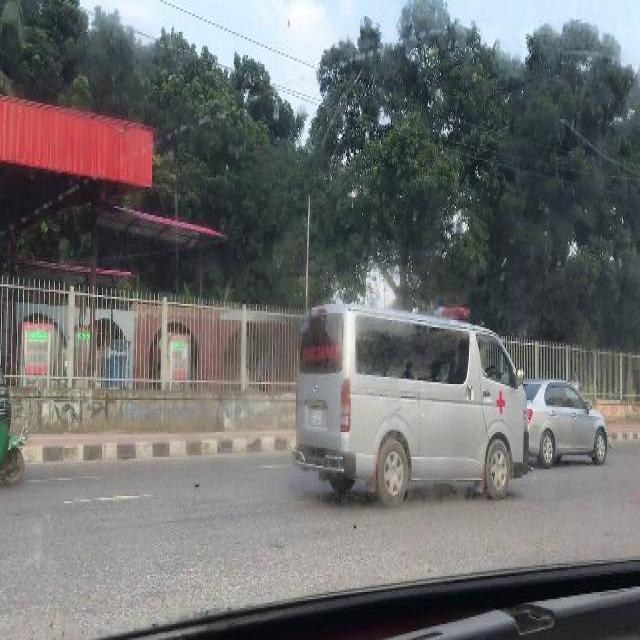5: (530, 372, 614, 474)
Ambulance: (292, 300, 530, 514)
